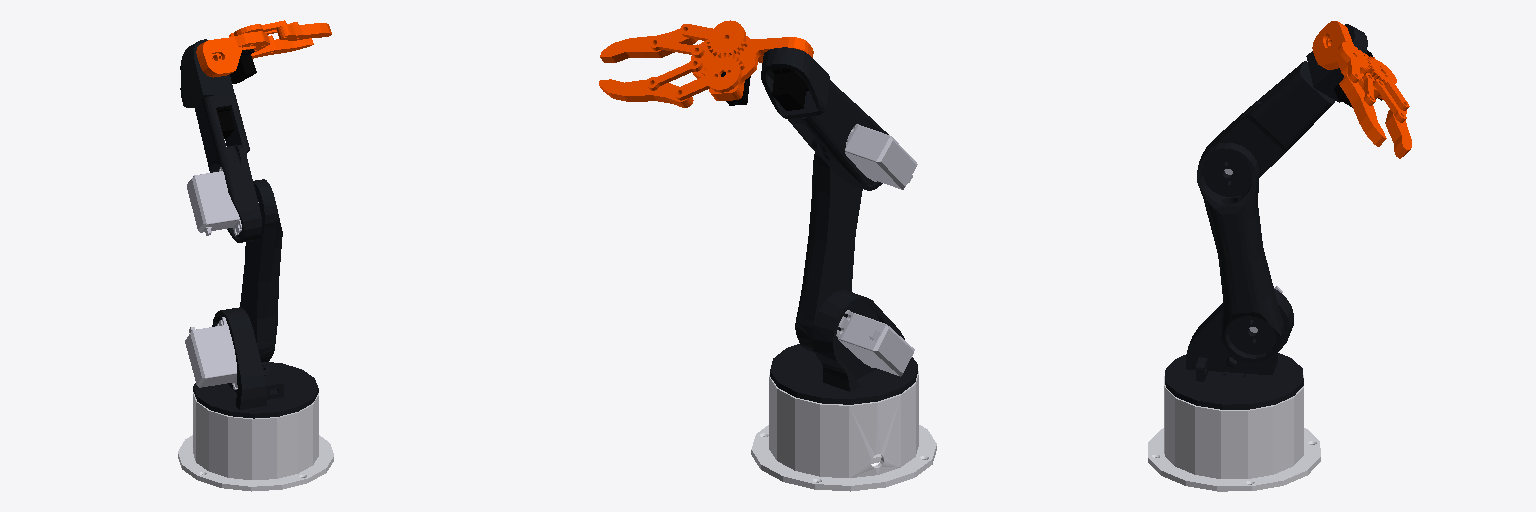
URDF robot description (arm_robot):
<?xml version="1.0" ?>
<!--URDF organized perfectly into sequential subsystems-->
<robot name="arm_robot">

  <!-- ========================================== -->
  <!-- 1. ROOT & BASE STRUCTURE                 -->
  <!-- ========================================== -->
  <link name="root" />
  <joint name="fixed_node_to_root_joint_0" type="fixed">
          <origin xyz="-0.0386083 0.124405 -0.0639913" rpy="5.80768e-15 4.80471e-17 9.38306e-31" />
          <axis xyz="0 0 1" />
          <parent link="root" />
          <child link="base" />
      </joint>
  <link name="base">
          <inertial>
              <mass value="0.101031" />
              <origin xyz="0.0406816 -0.0928149 0.0584112" rpy="0 -0 0" />
              <inertia ixx="0.000137746" ixy="4.68146e-06" ixz="-3.43353e-06" iyy="0.000141721" iyz="2.2726e-06" izz="0.000218799" />
          </inertial>
          <visual>
              <origin xyz="0 0 0" rpy="0 -0 0" />
              <geometry>
                  <mesh filename="package://robotic_arm_description/meshes/Base.stl" scale="1 1 1" />
              </geometry>
              <material name="0.937255_0.941176_0.945098_0.000000_0.000000">
                  <texture />
                  <color rgba="0.85 0.85 0.88 1" />
              </material>
          </visual>
      </link>

  <!-- ========================================== -->
  <!-- 2. WAIST MECHANISM                       -->
  <!-- ========================================== -->
  <joint name="fastened_1_4" type="fixed">
          <origin xyz="0.032073 -0.081121 0.0741076" rpy="-5.67254e-17 -2.1343e-15 3.60822e-16" />
          <axis xyz="1.94764e-15 2.81325e-15 1" />
          <parent link="base" />
          <child link="servo_motor_mg996r" />
      </joint>
  <link name="servo_motor_mg996r">
          <inertial>
              <mass value="0.0356215" />
              <origin xyz="0.0168551 -0.0171522 -0.00843485" rpy="0 -0 0" />
              <inertia ixx="7.34339e-06" ixy="1.80523e-06" ixz="2.44862e-07" iyy="8.87594e-06" iyz="-1.62071e-07" izz="6.32908e-06" />
          </inertial>
          <visual>
              <origin xyz="-0.032073 0.081121 -0.0741076" rpy="0 -0 0" />
              <geometry>
                  <mesh filename="package://robotic_arm_description/meshes/Servo Motor MG996R.stl" scale="1 1 1" />
              </geometry>
              <material name="0.352941_0.352941_0.352941_0.000000_0.000000">
                  <texture />
                  <color rgba="0.75 0.75 0.80 1" />
              </material>
          </visual>
      </link>
  <joint name="waist_joint" type="revolute">
          <origin xyz="0.00870625 -0.0117586 0.0186" rpy="-2.445e-15 3.21117e-15 1.23743" />
          <axis xyz="1.38613e-16 3.26282e-15 1" />
          <limit lower="-1.5708" upper="1.5708" effort="10.0" velocity="3.14" />
          <parent link="servo_motor_mg996r" />
          <child link="waist" />
      </joint>
  <link name="waist">
          <inertial>
              <mass value="0.0715763" />
              <origin xyz="0.00027228 0.0065737 0.0172896" rpy="0 -0 0" />
              <inertia ixx="4.79742e-05" ixy="-2.92128e-06" ixz="-5.56079e-06" iyy="6.05465e-05" iyz="-6.47243e-06" izz="5.75198e-05" />
          </inertial>
          <visual>
              <origin xyz="-0.0407793 0.0928796 -0.0931076" rpy="0 -0 0" />
              <geometry>
                  <mesh filename="package://robotic_arm_description/meshes/Waist.stl" scale="1 1 1" />
              </geometry>
              <material name="0.082353_0.376471_0.745098_0.000000_0.000000">
                  <texture />
                  <color rgba="0.12 0.13 0.15 1" />
              </material>
          </visual>
      </link>

  <!-- ========================================== -->
  <!-- 3. SHOULDER & UPPER ARM                  -->
  <!-- ========================================== -->
  <joint name="fastened_1_3" type="fixed">
          <origin xyz="0.0167974 0.0211208 0.0535347" rpy="3.13405e-16 8.72205e-17 -2.22045e-16" />
          <axis xyz="-0.167932 0.985799 2.8727e-15" />
          <parent link="waist" />
          <child link="servo_motor_mg996r_1" />
      </joint>
  <link name="servo_motor_mg996r_1">
          <inertial>
              <mass value="0.0356215" />
              <origin xyz="-0.0147306 0.00848155 -0.0201682" rpy="0 -0 0" />
              <inertia ixx="7.99071e-06" ixy="4.90695e-07" ixz="-1.96815e-06" iyy="6.44804e-06" iyz="-1.24651e-07" izz="8.10967e-06" />
          </inertial>
          <visual>
              <origin xyz="-0.0574024 0.0717885 -0.146819" rpy="0 -0 0" />
              <geometry>
                  <mesh filename="package://robotic_arm_description/meshes/Servo Motor MG996R_1.stl" scale="1 1 1" />
              </geometry>
              <material name="0.352941_0.352941_0.352941_0.000000_0.000000">
                  <texture />
                  <color rgba="0.75 0.75 0.80 1" />
              </material>
          </visual>
      </link>
  <joint name="shoulder_joint" type="revolute">
          <origin xyz="-0.00337881 -0.017009 -0.0132583" rpy="-0.00880207 0.0516235 -0.000227249" />
          <axis xyz="0.167932 -0.985799 -3.41609e-15" />
          <limit lower="-1.0472" upper="1.0472" effort="10.0" velocity="3.14" />
          <parent link="servo_motor_mg996r_1" />
          <child link="arm_01" />
      </joint>
  <link name="arm_01">
          <inertial>
              <mass value="0.0672108" />
              <origin xyz="-0.0101921 -0.00963787 0.0580444" rpy="0 -0 0" />
              <inertia ixx="0.00010883" ixy="-1.45286e-06" ixz="1.96592e-05" iyy="0.00011741" iyz="3.099e-06" izz="1.35739e-05" />
          </inertial>
          <visual>
              <origin xyz="-0.0540236 0.0887974 -0.133561" rpy="0 -0 0" />
              <geometry>
                  <mesh filename="package://robotic_arm_description/meshes/Arm 01.stl" scale="1 1 1" />
              </geometry>
              <material name="0.082353_0.376471_0.745098_0.000000_0.000000">
                  <texture />
                  <color rgba="0.12 0.13 0.15 1" />
              </material>
          </visual>
      </link>
  <joint name="fastened_1_0" type="fixed">
          <origin xyz="0.00108524 -0.00637058 -2.91434e-16" rpy="-8.67362e-19 -6.93889e-18 2.87856e-17" />
          <axis xyz="-0.167932 0.985799 3.41609e-15" />
          <parent link="arm_01" />
          <child link="arm_01_1" />
      </joint>
  <link name="arm_01_1">
          <inertial>
              <mass value="0.000649482" />
              <origin xyz="-0.0124353 -0.00165935 -0.0229608" rpy="0 -0 0" />
              <inertia ixx="1.18358e-08" ixy="3.56348e-10" ixz="-1.62432e-09" iyy="8.0687e-09" iyz="-8.10603e-10" izz="9.6144e-09" />
          </inertial>
          <visual>
              <origin xyz="-0.0549472 0.0942193 -0.133561" rpy="0 -0 0" />
              <geometry>
                  <mesh filename="package://robotic_arm_description/meshes/Arm 01_1.stl" scale="1 1 1" />
              </geometry>
              <material name="0.082353_0.376471_0.745098_0.000000_0.000000">
                  <texture />
                  <color rgba="0.12 0.13 0.15 1" />
              </material>
          </visual>
      </link>

  <!-- ========================================== -->
  <!-- 4. ELBOW & FOREARM                       -->
  <!-- ========================================== -->
  <joint name="elbow_joint" type="revolute">
          <origin xyz="-0.0233091 -0.00397075 0.117647" rpy="0.228615 -0.926223 -0.114529" />
          <axis xyz="0.167932 -0.985799 -3.02015e-15" />
          <limit lower="-1.2217" upper="1.2217" effort="10.0" velocity="3.14" />
          <parent link="arm_01" />
          <child link="servo_motor_mg996r_2" />
      </joint>
  <link name="servo_motor_mg996r_2">
          <inertial>
              <mass value="0.0356215" />
              <origin xyz="0.0050744 0.0282888 -0.000612193" rpy="0 -0 0" />
              <inertia ixx="6.26562e-06" ixy="-3.03874e-07" ixz="2.38663e-07" iyy="6.22739e-06" iyz="5.93172e-08" izz="1.00554e-05" />
          </inertial>
          <visual>
              <origin xyz="-0.0307144 0.0927682 -0.251208" rpy="0 -0 0" />
              <geometry>
                  <mesh filename="package://robotic_arm_description/meshes/Servo Motor MG996R_2.stl" scale="1 1 1" />
              </geometry>
              <material name="0.352941_0.352941_0.352941_0.000000_0.000000">
                  <texture />
                  <color rgba="0.75 0.75 0.80 1" />
              </material>
          </visual>
      </link>
  <joint name="fastened_1_2" type="fixed">
          <origin xyz="0.0312856 0.0217629 0.00284453" rpy="-2.85882e-15 4.996e-16 1.36696e-15" />
          <axis xyz="-0.167932 0.985799 2.65368e-15" />
          <parent link="servo_motor_mg996r_2" />
          <child link="arm_02_v3" />
      </joint>
  <link name="arm_02_v3">
          <inertial>
              <mass value="0.0528829" />
              <origin xyz="0.00558634 -0.00472001 -0.00527772" rpy="0 -0 0" />
              <inertia ixx="1.14925e-05" ixy="-8.76515e-06" ixz="2.86344e-06" iyy="5.96286e-05" iyz="5.06883e-07" izz="5.72625e-05" />
          </inertial>
          <visual>
              <origin xyz="-0.0620154 0.0710026 -0.254302" rpy="0 -0 0" />
              <geometry>
                  <mesh filename="package://robotic_arm_description/meshes/Arm 02 v3.stl" scale="1 1 1" />
              </geometry>
              <material name="0.082353_0.376471_0.745098_0.000000_0.000000">
                  <texture />
                  <color rgba="0.12 0.13 0.15 1" />
              </material>
          </visual>
      </link>

  <!-- ========================================== -->
  <!-- 5. WRIST MECHANISMS (ROLL & PITCH)       -->
  <!-- ========================================== -->
  <joint name="fastened_2_0" type="fixed">
          <origin xyz="0.0445283 0.00200623 -0.0216135" rpy="-1.62386 -1.50802 0.221897" />
          <axis xyz="0 1 0" />
          <parent link="arm_02_v3" />
          <child link="servo_motor" />
      </joint>
  <link name="servo_motor">
          <inertial>
              <mass value="0.00749909" />
              <origin xyz="0.0133719 -0.00553916 -9.90986e-20" rpy="0 -0 0" />
              <inertia ixx="4.81958e-07" ixy="3.76599e-08" ixz="0" iyy="4.49862e-07" iyz="0" izz="7.44587e-07" />
          </inertial>
          <visual>
              <origin xyz="0.0138 -0.01805 0" rpy="0 -0 0" />
              <geometry>
                  <mesh filename="package://robotic_arm_description/meshes/Servo Motor.stl" scale="1 1 1" />
              </geometry>
              <material name="0.301961_0.301961_0.301961_0.000000_0.000000">
                  <texture />
                  <color rgba="0.05 0.05 0.05 1" />
              </material>
          </visual>
      </link>
  <joint name="wrist_roll_joint" type="revolute">
          <origin xyz="0.0087 0.01185 6.76542e-17" rpy="0.240602 -0.0212445 1.39215" />
          <axis xyz="0.983862 0.167602 -0.0626468" />
          <limit lower="-1.5708" upper="1.5708" effort="3.0" velocity="5.0" />
          <parent link="servo_motor" />
          <child link="arm_03" />
      </joint>
  <link name="arm_03">
          <inertial>
              <mass value="0.0173574" />
              <origin xyz="0.0188285 -0.00304012 0.00277914" rpy="0 -0 0" />
              <inertia ixx="2.63992e-06" ixy="1.61309e-07" ixz="1.84822e-07" iyy="5.36981e-06" iyz="2.193e-07" izz="4.13772e-06" />
          </inertial>
          <visual>
              <origin xyz="-0.118727 0.0669209 -0.24043" rpy="0 -0 0" />
              <geometry>
                  <mesh filename="package://robotic_arm_description/meshes/Arm 03.stl" scale="1 1 1" />
              </geometry>
              <material name="0.082353_0.376471_0.745098_0.000000_0.000000">
                  <texture />
                  <color rgba="0.12 0.13 0.15 1" />
              </material>
          </visual>
      </link>
  <joint name="fastened_1_1" type="fixed">
          <origin xyz="0.0100537 -0.00277107 0.00362407" rpy="-0.199177 -0.0636488 -2.97267" />
          <axis xyz="0 1 0" />
          <parent link="arm_03" />
          <child link="servo_motor_2" />
      </joint>
  <link name="servo_motor_2">
          <inertial>
              <mass value="0.00749909" />
              <origin xyz="-0.0142281 -0.00553916 -9.90986e-20" rpy="0 -0 0" />
              <inertia ixx="4.81958e-07" ixy="3.76599e-08" ixz="0" iyy="4.49862e-07" iyz="0" izz="7.44587e-07" />
          </inertial>
          <visual>
              <origin xyz="-0.0138 -0.01805 0" rpy="0 -0 0" />
              <geometry>
                  <mesh filename="package://robotic_arm_description/meshes/Servo Motor.stl" scale="1 1 1" />
              </geometry>
              <material name="0.301961_0.301961_0.301961_0.000000_0.000000">
                  <texture />
                  <color rgba="0.05 0.05 0.05 1" />
              </material>
          </visual>
      </link>
  <joint name="wrist_pitch_joint" type="revolute">
          <origin xyz="-0.0189 0.01185 2.08167e-17" rpy="3.03987 1.68615e-15 -1.5708" />
          <axis xyz="-1 1.23909e-16 0" />
          <limit lower="-1.5708" upper="1.5708" effort="3.0" velocity="5.0" />
          <parent link="servo_motor_2" />
          <child link="gripper_base" />
      </joint>
  <link name="gripper_base">
          <inertial>
              <mass value="0.0230141" />
              <origin xyz="0.0017005 0.00597594 0.0263357" rpy="0 -0 0" />
              <inertia ixx="1.10919e-05" ixy="-4.47723e-07" ixz="-1.84715e-06" iyy="1.24503e-05" iyz="-1.85622e-06" izz="3.57441e-06" />
          </inertial>
          <visual>
              <origin xyz="-0.014 0.009 0.063" rpy="0 -0 0" />
              <geometry>
                  <mesh filename="package://robotic_arm_description/meshes/Gripper Base.stl" scale="1 1 1" />
              </geometry>
              <material name="0.305882_0.596078_0.105882_0.000000_0.000000">
                  <texture />
                  <color rgba="1.00 0.35 0.00 1" />
              </material>
          </visual>
      </link>

  <!-- ========================================== -->
  <!-- 6. GRIPPER ASSEMBLY                      -->
  <!-- ========================================== -->
  <joint name="fastened_6_0" type="fixed">
          <origin xyz="0.0267 0.0035 0.038" rpy="-3.14159 -5.16254e-15 -3.14159" />
          <axis xyz="0 1 0" />
          <parent link="gripper_base" />
          <child link="servo_motor_1" />
      </joint>
  <link name="servo_motor_1">
          <inertial>
              <mass value="0.00749909" />
              <origin xyz="0.0133204 -0.00553916 1.32483e-19" rpy="0 -0 0" />
              <inertia ixx="4.81958e-07" ixy="3.76599e-08" ixz="0" iyy="4.49862e-07" iyz="0" izz="7.44587e-07" />
          </inertial>
          <visual>
              <origin xyz="0.0137485 -0.01805 2.31581e-19" rpy="0 -0 0" />
              <geometry>
                  <mesh filename="package://robotic_arm_description/meshes/Servo Motor.stl" scale="1 1 1" />
              </geometry>
              <material name="0.301961_0.301961_0.301961_0.000000_0.000000">
                  <texture />
                  <color rgba="0.05 0.05 0.05 1" />
              </material>
          </visual>
      </link>
  <joint name="gripper_joint" type="revolute">
          <origin xyz="-0.001 0.014 0.058" rpy="-3.14159 -1.32304 3.14159" />
          <axis xyz="0 -1 0" />
          <limit lower="-0.5" upper="0.5" effort="3.0" velocity="5.0" />
          <parent link="gripper_base" />
          <child link="grip_link" />
      </joint>
  <link name="grip_link">
          <inertial>
              <mass value="0.00103919" />
              <origin xyz="0.0155 0.002 -2.19769e-19" rpy="0 -0 0" />
              <inertia ixx="4.72589e-09" ixy="0" ixz="0" iyy="1.35856e-07" iyz="0" izz="1.33901e-07" />
          </inertial>
          <visual>
              <origin xyz="0 0 0" rpy="0 -0 0" />
              <geometry>
                  <mesh filename="package://robotic_arm_description/meshes/Grip Link.stl" scale="1 1 1" />
              </geometry>
              <material name="0.305882_0.596078_0.105882_0.000000_0.000000">
                  <texture />
                  <color rgba="1.00 0.35 0.00 1" />
              </material>
          </visual>
      </link>
  <joint name="gripper_right_joint" type="continuous">
          <origin xyz="0.009 0.014 0.058" rpy="-5.14983e-15 -1.17524 3.91123e-15" />
          <axis xyz="0 -1 0" />
          <parent link="gripper_base" />
          <child link="grip_link_1" />
      </joint>
  <link name="grip_link_1">
          <inertial>
              <mass value="0.00103919" />
              <origin xyz="0.0155 0.002 -2.19769e-19" rpy="0 -0 0" />
              <inertia ixx="4.72589e-09" ixy="0" ixz="0" iyy="1.35856e-07" iyz="0" izz="1.33901e-07" />
          </inertial>
          <visual>
              <origin xyz="0 0 0" rpy="0 -0 0" />
              <geometry>
                  <mesh filename="package://robotic_arm_description/meshes/Grip Link.stl" scale="1 1 1" />
              </geometry>
              <material name="0.305882_0.596078_0.105882_0.000000_0.000000">
                  <texture />
                  <color rgba="1.00 0.35 0.00 1" />
              </material>
          </visual>
      </link>
  <joint name="revolute_7_0" type="continuous">
          <origin xyz="0.031 0 -1.52656e-16" rpy="-2.37403 -2.22045e-15 1.5708" />
          <axis xyz="-1 0 0" />
          <parent link="grip_link_1" />
          <child link="gripper" />
      </joint>
  <link name="gripper">
          <inertial>
              <mass value="0.00702205" />
              <origin xyz="-0.00425 0.0045143 -0.00488967" rpy="0 -0 0" />
              <inertia ixx="2.23002e-06" ixy="0" ixz="0" iyy="2.07616e-06" iyz="4.85829e-07" izz="2.3841e-07" />
          </inertial>
          <visual>
              <origin xyz="-0.0085 -0.005 0.027" rpy="0 -0 0" />
              <geometry>
                  <mesh filename="package://robotic_arm_description/meshes/Gripper.stl" scale="1 1 1" />
              </geometry>
              <material name="0.305882_0.596078_0.105882_0.000000_0.000000">
                  <texture />
                  <color rgba="1.00 0.35 0.00 1" />
              </material>
          </visual>
      </link>
  <joint name="revolute_8_0" type="continuous">
          <origin xyz="0.031 -1.66533e-16 -1.52656e-16" rpy="0.933414 -2.60902e-15 -1.5708" />
          <axis xyz="1 0 0" />
          <parent link="grip_link" />
          <child link="gripper_1" />
      </joint>
  <link name="gripper_1">
          <inertial>
              <mass value="0.00702205" />
              <origin xyz="0.00425 0.0045143 -0.00488967" rpy="0 -0 0" />
              <inertia ixx="2.23002e-06" ixy="0" ixz="0" iyy="2.07616e-06" iyz="4.85829e-07" izz="2.3841e-07" />
          </inertial>
          <visual>
              <origin xyz="0 -0.005 0.027" rpy="0 -0 0" />
              <geometry>
                  <mesh filename="package://robotic_arm_description/meshes/Gripper.stl" scale="1 1 1" />
              </geometry>
              <material name="0.305882_0.596078_0.105882_0.000000_0.000000">
                  <texture />
                  <color rgba="1.00 0.35 0.00 1" />
              </material>
          </visual>
      </link>
  <joint name="gear_left_joint" type="continuous">
          <origin xyz="-0.009 0.014 0.038" rpy="-3.14159 -1.309 3.14159" />
          <axis xyz="0 -1 0" />
          <parent link="gripper_base" />
          <child link="gear_1" />
      </joint>
  <link name="gear_1">
          <inertial>
              <mass value="0.00343674" />
              <origin xyz="0.00557875 0.002 -0.000601969" rpy="0 -0 0" />
              <inertia ixx="1.1715e-07" ixy="0" ixz="-1.20439e-08" iyy="5.81859e-07" iyz="0" izz="4.73873e-07" />
          </inertial>
          <visual>
              <origin xyz="0.0101063 0 6.07153e-18" rpy="0 -0 0" />
              <geometry>
                  <mesh filename="package://robotic_arm_description/meshes/Gear 1.stl" scale="1 1 1" />
              </geometry>
              <material name="0.305882_0.596078_0.105882_0.000000_0.000000">
                  <texture />
                  <color rgba="1.00 0.35 0.00 1" />
              </material>
          </visual>
      </link>
  <joint name="gear_right_joint" type="continuous">
          <origin xyz="0.0179 0.014 0.038" rpy="-3.14159 1.309 3.14159" />
          <axis xyz="0 -1 0" />
          <parent link="gripper_base" />
          <child link="gear_2" />
      </joint>
  <link name="gear_2">
          <inertial>
              <mass value="0.00333818" />
              <origin xyz="-0.00569595 0.002 0.00014" rpy="0 -0 0" />
              <inertia ixx="1.2603e-07" ixy="0" ixz="5.81186e-08" iyy="5.80457e-07" iyz="0" izz="4.6333e-07" />
          </inertial>
          <visual>
              <origin xyz="0.0101063 0 6.07153e-18" rpy="0 -0 0" />
              <geometry>
                  <mesh filename="package://robotic_arm_description/meshes/Gear 2.stl" scale="1 1 1" />
              </geometry>
              <material name="0.305882_0.596078_0.105882_0.000000_0.000000">
                  <texture />
                  <color rgba="1.00 0.35 0.00 1" />
              </material>
          </visual>
      </link>

</robot>

--- Facts derived from the render (not from the file) ---
The picture shows the robot from 3 angles, left to right: view 1: azimuth 30°, elevation 25°; view 2: azimuth 150°, elevation 25°; view 3: azimuth 270°, elevation 25°; orthographic projection.
Robot: arm_robot — 20 links, 19 joints (6 revolute, 5 continuous, 8 fixed); root link root; default pose: all joints at 0.
Links seen in each view (by area): view 1: base, waist, arm_01, arm_02_v3, servo_motor_mg996r_1, servo_motor_mg996r_2, gripper_base, arm_03, gripper_1, gripper, servo_motor_1; view 2: base, waist, arm_01, arm_02_v3, servo_motor_mg996r_1, servo_motor_mg996r_2, arm_03, gripper_base, gear_2, gear_1, gripper, gripper_1 (+3 smaller); view 3: base, arm_01, waist, arm_02_v3, gripper_base, gripper_1, arm_03, gear_2, gripper, gear_1.
Boxes of the visible links, x1=… form: base: x1=178, y1=392, x2=333, y2=491; waist: x1=193, y1=307, x2=318, y2=418; arm_01: x1=240, y1=179, x2=282, y2=362; arm_02_v3: x1=195, y1=93, x2=261, y2=242; servo_motor_mg996r_1: x1=185, y1=317, x2=237, y2=389; servo_motor_mg996r_2: x1=187, y1=167, x2=258, y2=235; gripper_base: x1=196, y1=31, x2=269, y2=77; arm_03: x1=180, y1=39, x2=233, y2=107; gripper_1: x1=276, y1=23, x2=331, y2=40; gripper: x1=251, y1=38, x2=313, y2=58; servo_motor_1: x1=230, y1=49, x2=256, y2=83; base: x1=751, y1=371, x2=936, y2=491; waist: x1=770, y1=290, x2=917, y2=404; arm_01: x1=795, y1=152, x2=862, y2=351; arm_02_v3: x1=788, y1=80, x2=888, y2=190; servo_motor_mg996r_1: x1=836, y1=310, x2=914, y2=376; servo_motor_mg996r_2: x1=845, y1=124, x2=917, y2=189; arm_03: x1=761, y1=47, x2=829, y2=118; gripper_base: x1=691, y1=36, x2=813, y2=100; gear_2: x1=674, y1=54, x2=744, y2=100; gear_1: x1=680, y1=20, x2=747, y2=57; gripper: x1=599, y1=79, x2=693, y2=107; gripper_1: x1=600, y1=29, x2=697, y2=62; base: x1=1148, y1=375, x2=1320, y2=491; arm_01: x1=1197, y1=142, x2=1283, y2=362; waist: x1=1165, y1=289, x2=1303, y2=409; arm_02_v3: x1=1198, y1=61, x2=1334, y2=177; gripper_base: x1=1312, y1=21, x2=1383, y2=99; gripper_1: x1=1339, y1=74, x2=1386, y2=146; arm_03: x1=1306, y1=24, x2=1367, y2=102; gear_2: x1=1367, y1=56, x2=1409, y2=110; gripper: x1=1385, y1=109, x2=1411, y2=158; gear_1: x1=1338, y1=42, x2=1370, y2=82.
Bounding box of the posed robot: 0.1835 × 0.1821 × 0.3306 m (x, y, z).
Meshes: 15 distinct files referenced, 19 mesh visuals loaded (15 ASCII STL).
